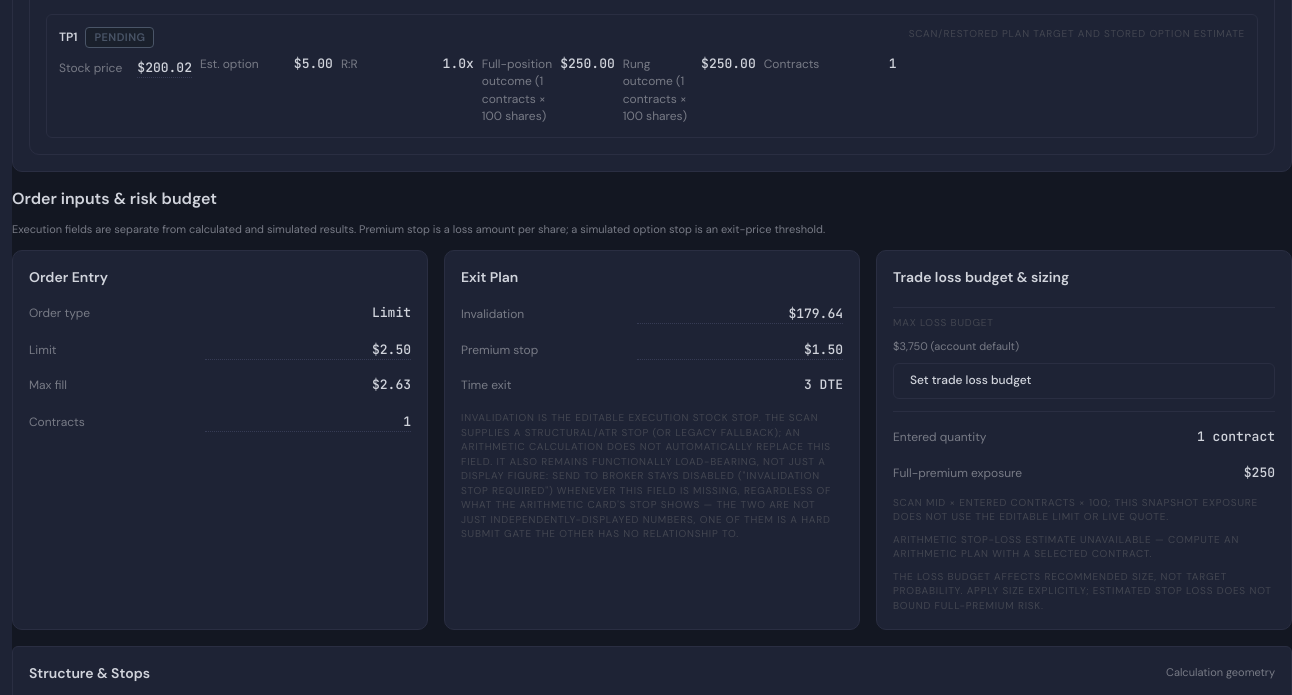
it: TradeCard › REJECTS a value typed past the bound instead of clamping it
This screenshot has width=1292, height=695.
(page scrolled)
Click the button named "Edit Premium stop".
click(740, 349)  # box [637, 338, 843, 360]
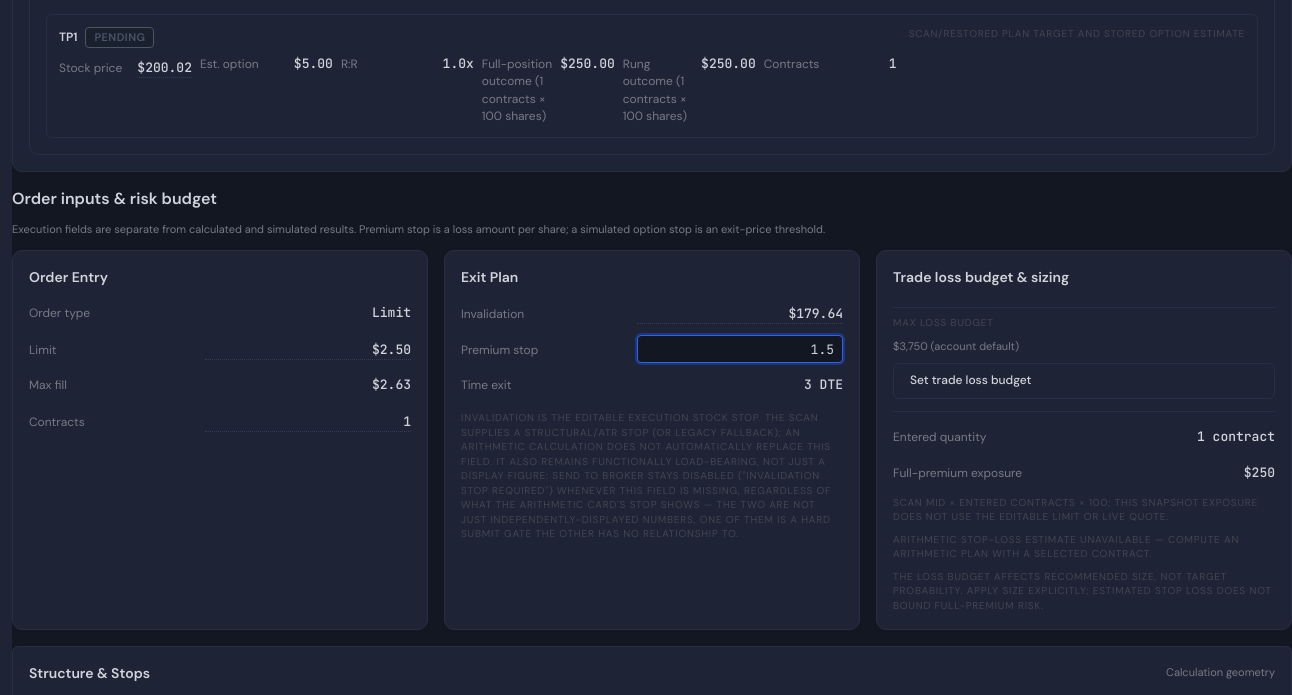
Replace the text in the field named "Edit Premium stop" with "99" at (740, 349), box [637, 335, 843, 363]
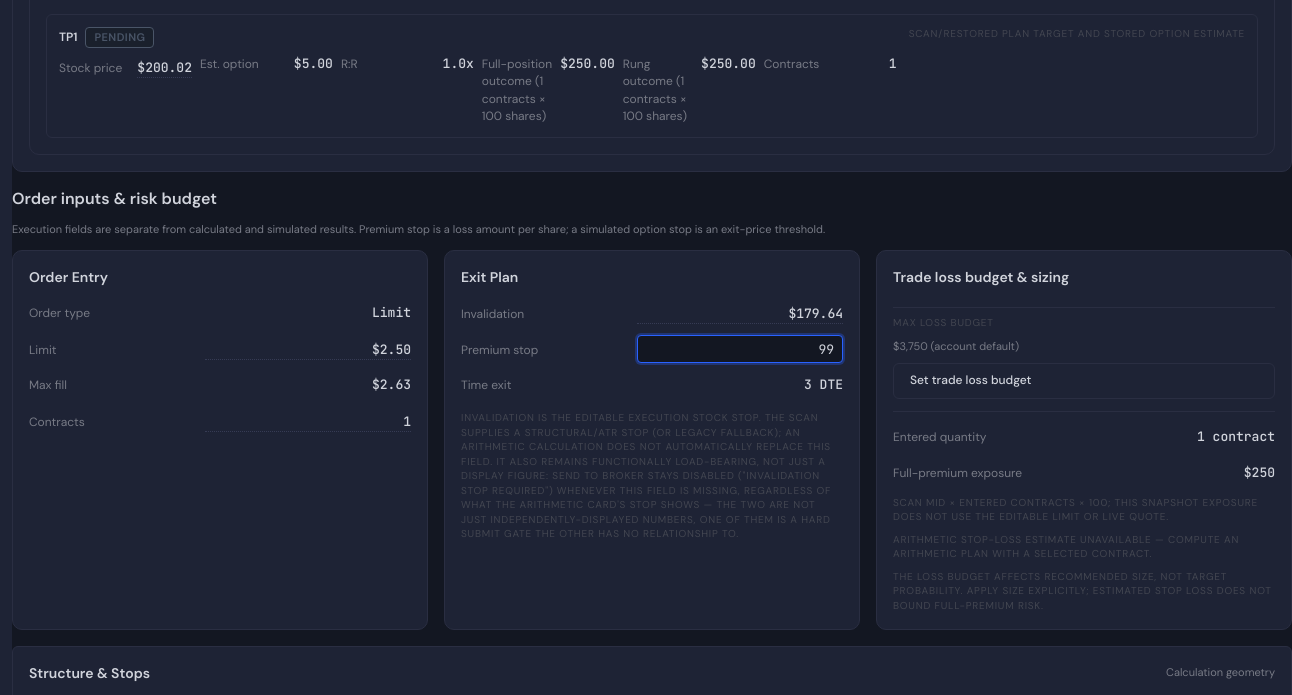
Leave the field named "Edit Premium stop", box [637, 335, 843, 363]
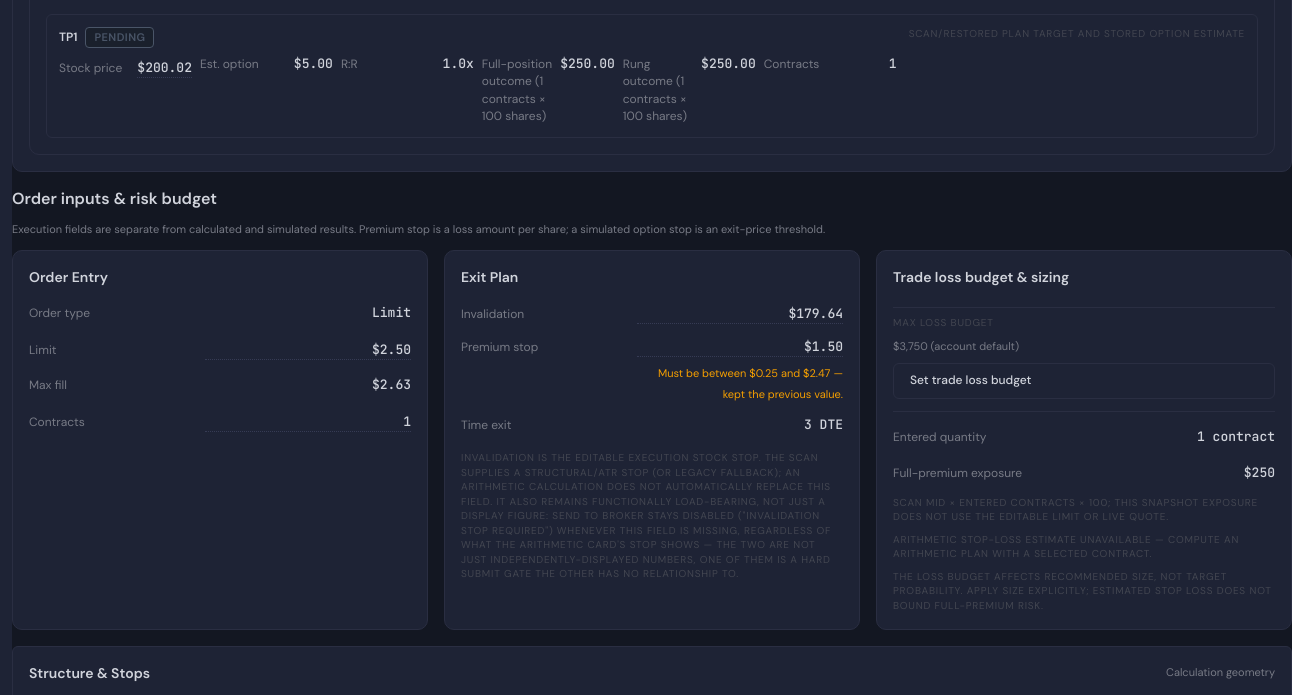
Result: the button named "Edit Premium stop" reads "$1.50" at [637, 335, 843, 357]
